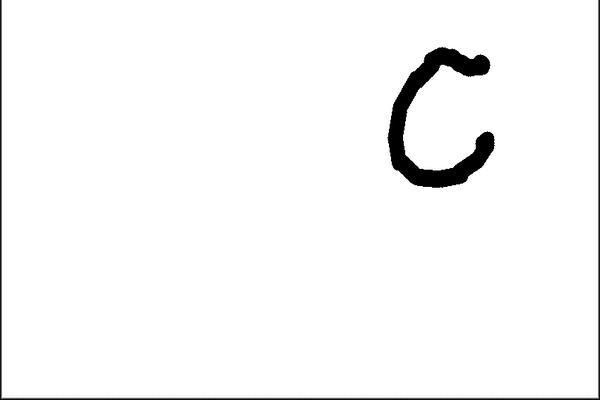C: (382, 41, 501, 191)
